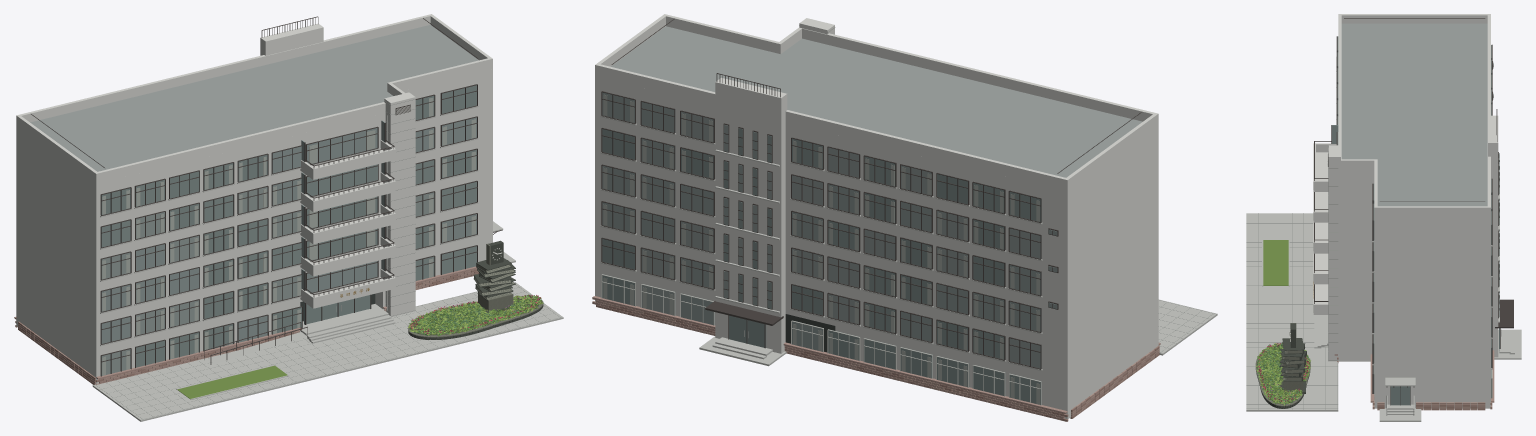
Rendered from buildings-17-medium.glb.
3 renders of one model, left to right at view 1: azimuth 30°, elevation 25°; view 2: azimuth 150°, elevation 25°; view 3: azimuth 270°, elevation 25°, orthographic. The views are drawn at different scales.
Parts seen in each view (by area): view 1: T4 six storey structure, T4 flat roof, T4 forecourt paving, T4 window glass.001, T4 window glass.002, T4 roof parapet, T4 window glass.003, T4 window transoms, T4 setback east wing, T4 window mullions, T4 curtain panels, T4 front shaft (+29 smaller); view 2: T4 six storey structure, T4 flat roof, T4 rear stair tower, T4 window glass.002, T4 window glass.001, T4 roof parapet, T4 window glass, T4 setback east wing, T4 window transoms, T4 window mullions, T4 curtain panels, T4 window glass.003 (+22 smaller); view 3: T4 flat roof, T4 setback east wing, T4 forecourt paving, T4 six storey structure, T4 setback east flat roof, T4 end parapet, T4 setback east ground structure, T4 front shaft, T4 rear stair tower, T4 balcony slab, T4 paving joints, T4 west forecourt lawn (+26 smaller).
Part boxes in pixels (box(x1,y1,x2,y2)): T4 six storey structure: box(16, 113, 385, 351); T4 flat roof: box(30, 48, 393, 171); T4 forecourt paving: box(92, 282, 563, 421); T4 window glass.001: box(101, 85, 476, 367); T4 window glass.002: box(101, 117, 476, 343); T4 roof parapet: box(20, 14, 430, 183); T4 window glass.003: box(101, 160, 476, 280); T4 window transoms: box(101, 84, 477, 362); T4 setback east wing: box(403, 69, 492, 255); T4 window mullions: box(100, 85, 477, 376); T4 curtain panels: box(102, 97, 475, 375); T4 front shaft: box(384, 92, 415, 316); T4 six storey structure: box(709, 104, 1158, 382); T4 flat roof: box(738, 38, 1142, 177); T4 rear stair tower: box(715, 77, 787, 353); T4 window glass.002: box(602, 92, 1041, 351); T4 window glass.001: box(602, 129, 1005, 395); T4 roof parapet: box(598, 28, 1154, 190); T4 window glass: box(641, 111, 1041, 368); T4 setback east wing: box(595, 76, 709, 295); T4 window transoms: box(601, 91, 1041, 369); T4 window mullions: box(601, 92, 1041, 369); T4 curtain panels: box(603, 94, 1039, 404); T4 window glass.003: box(792, 138, 1041, 404); T4 flat roof: box(1341, 23, 1487, 168); T4 setback east wing: box(1374, 217, 1490, 377); T4 forecourt paving: box(1246, 213, 1338, 411); T4 six storey structure: box(1338, 170, 1374, 330); T4 setback east flat roof: box(1377, 169, 1487, 206); T4 end parapet: box(1338, 14, 1490, 217); T4 setback east ground structure: box(1374, 377, 1490, 408); T4 front shaft: box(1328, 145, 1340, 361); T4 rear stair tower: box(1488, 115, 1498, 357); T4 balcony slab: box(1313, 152, 1328, 314); T4 paving joints: box(1246, 213, 1337, 409); T4 west forecourt lawn: box(1263, 240, 1288, 285).
Bounding box in the file's own units: 43.7 × 22.01 × 24.55.
29 materials, 3 textured.
